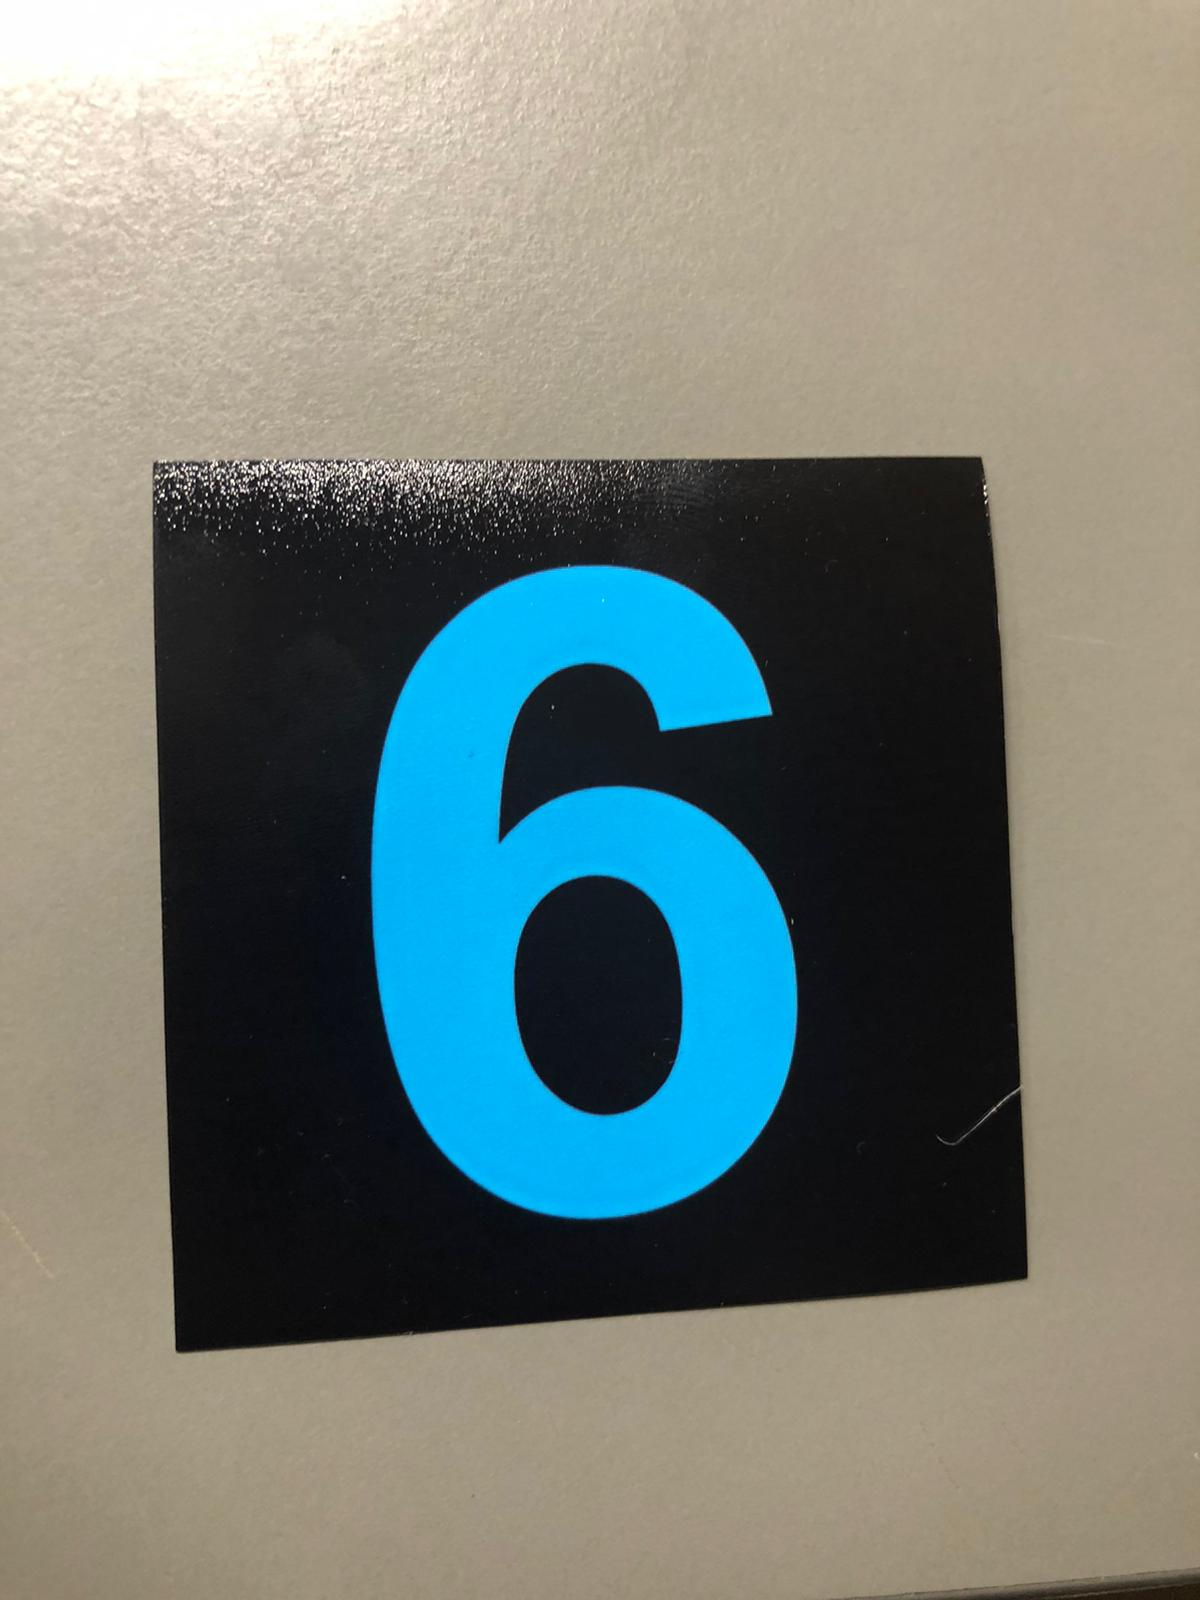Number 6: (145, 474, 983, 1294)
